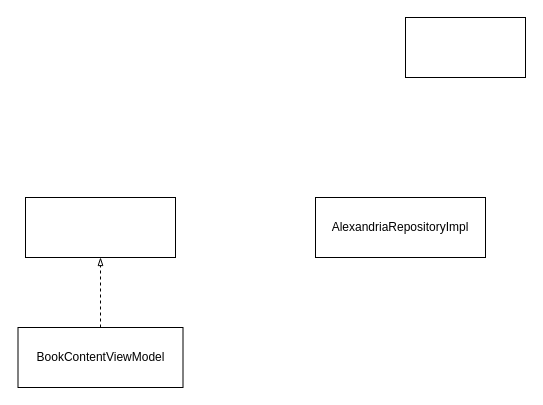
Some shapes in this 543 by 405 pixel diagram are drawn without their labels. The shapes that lost their labels are listed below. From the top down, each one's box as (x1, y1, x2, y2) in pixels, then its label:
(404, 16, 526, 78): KtorClient
(24, 196, 176, 258): <AlexandriaRepository>
